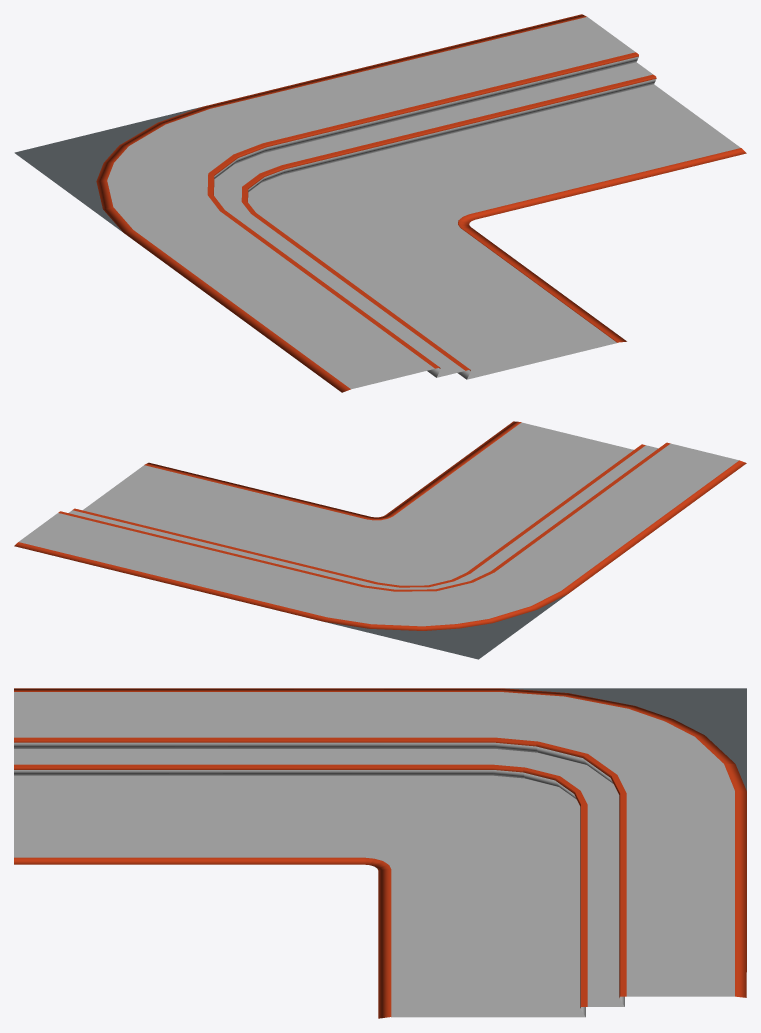
The model's file is W_O_Cafe_Stairs_001_a_L3.fbx.
3 renders of one model, top to bottom at view 1: azimuth 30°, elevation 25°; view 2: azimuth 150°, elevation 25°; view 3: azimuth 270°, elevation 25°, orthographic. The views are drawn at different scales.
Visible parts, largest first — view 1: W_O_Cafe_Stairs_001_a_L3; view 2: W_O_Cafe_Stairs_001_a_L3; view 3: W_O_Cafe_Stairs_001_a_L3.
Boxes of the visible parts, x1,y1,x2,y2 form: W_O_Cafe_Stairs_001_a_L3: (14,14,746,392); W_O_Cafe_Stairs_001_a_L3: (14,421,746,659); W_O_Cafe_Stairs_001_a_L3: (14,688,746,1018).
Size of the model in its own units: 16 by 16 by 0.5351.
